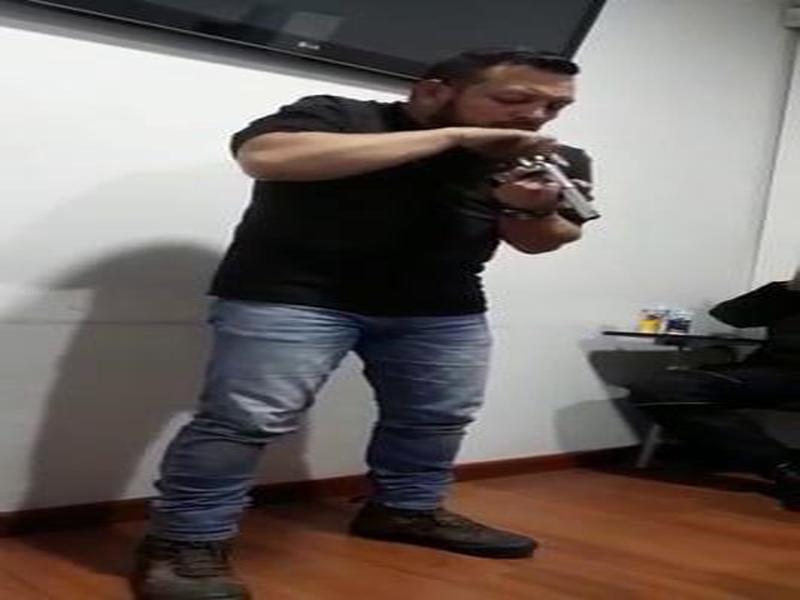Revolver: (476, 132, 606, 271)
